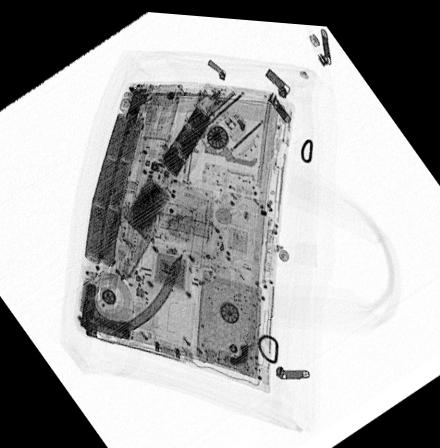Baton: (96, 77, 227, 280)
